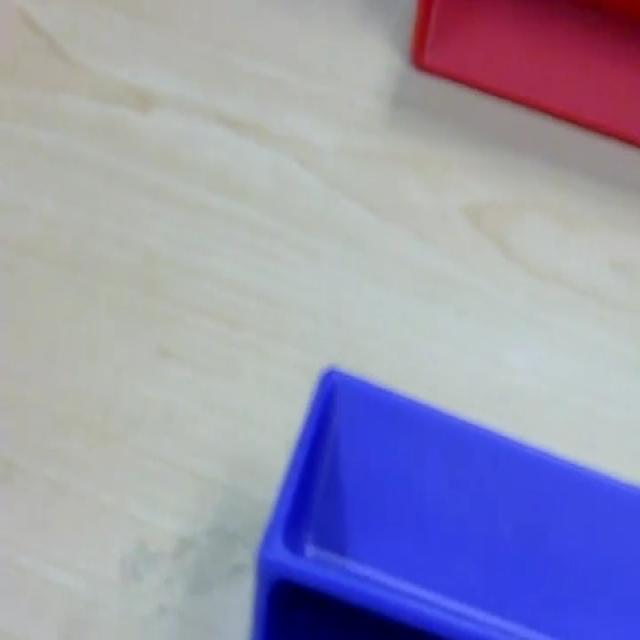blue_block: (251, 362, 638, 638)
red_block: (410, 0, 638, 148)
